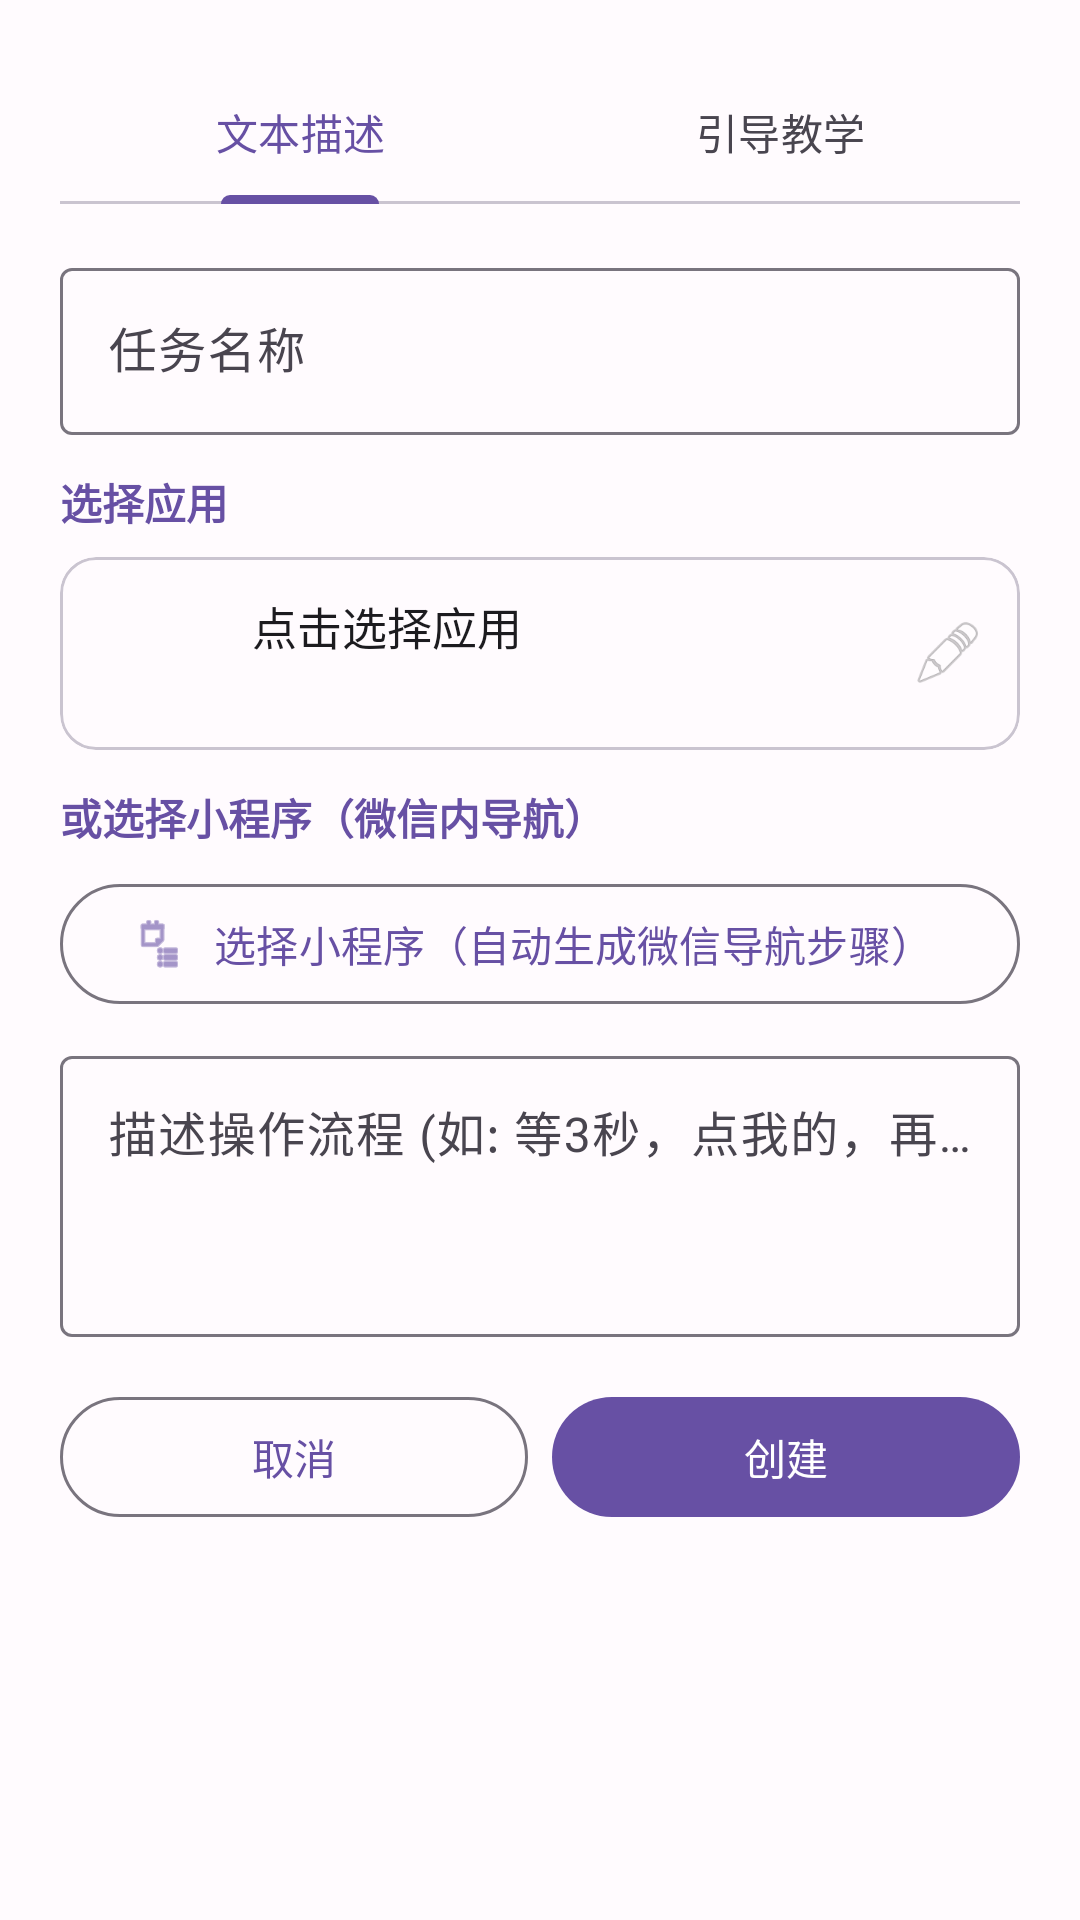

Icons on this 1080×1920 Android screen, each with its box as (x1, y1, x2, y2):
edit: (917, 622, 978, 683)
